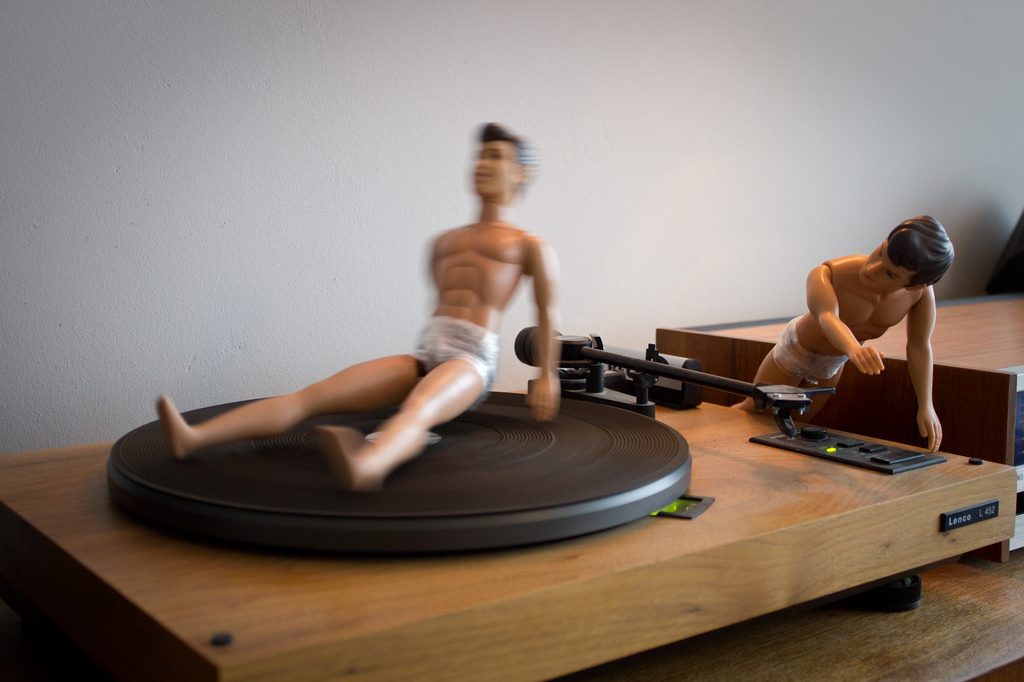person: (154, 120, 562, 493)
